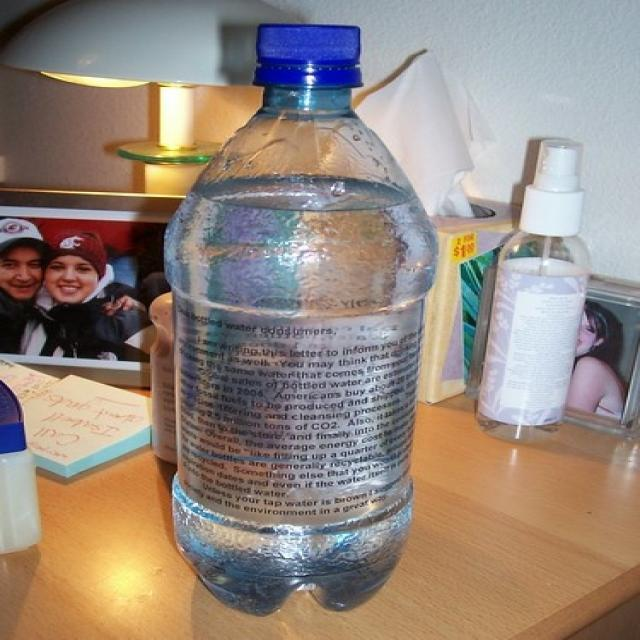plastic_bottle: (164, 22, 440, 618)
